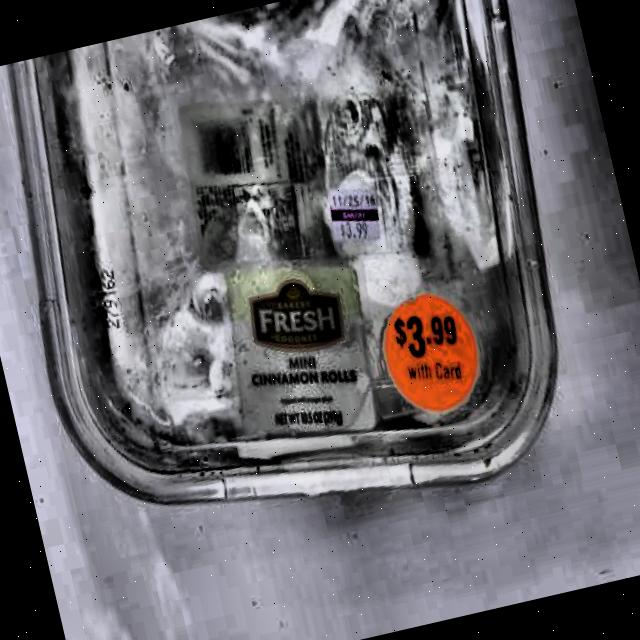plastic: (0, 0, 616, 575)
